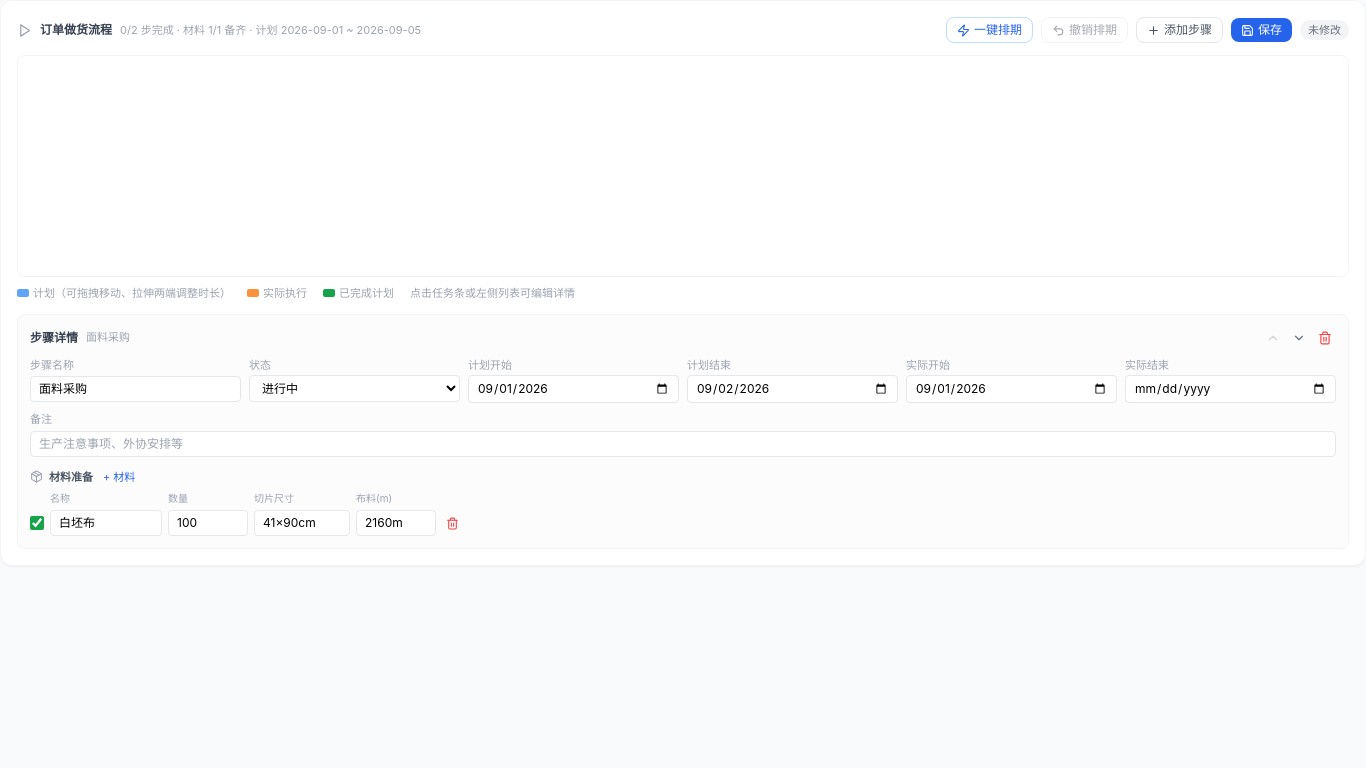
Test: 订单做货流程标签页 › 任务详情编辑 › 编辑名称后 600ms debounce 自动保存
The width and height of the screenshot is (1366, 768).
Expected: the text "计划（可拖拽移动、拉伸两端调整时长）" is shown, [17,285,231,302]
Replace the text in the field showing "面料采购" below "步骤名称" with "面料采购加急" at (136, 389), box [30,376,241,402]
Wait 700 ms
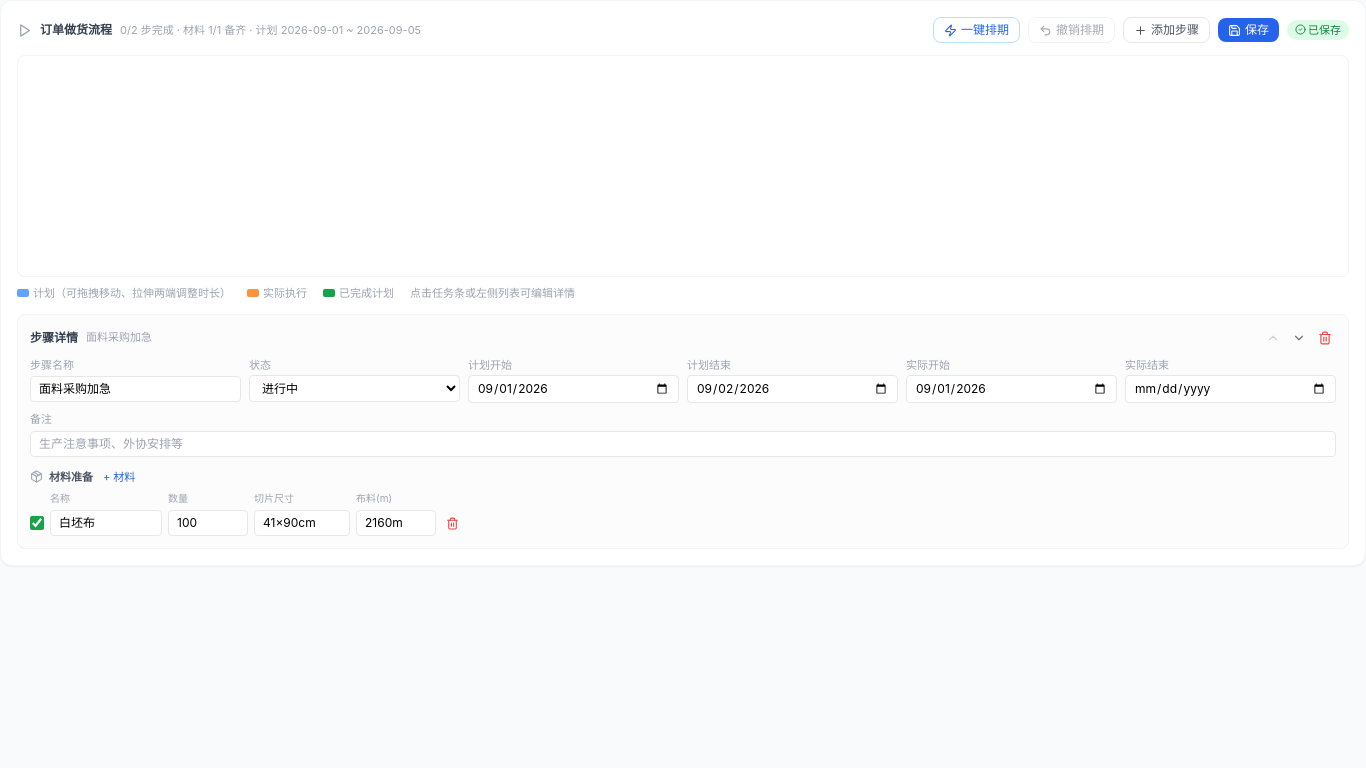
Expected: the text "面料采购加急" is shown, [86,329,152,346]
